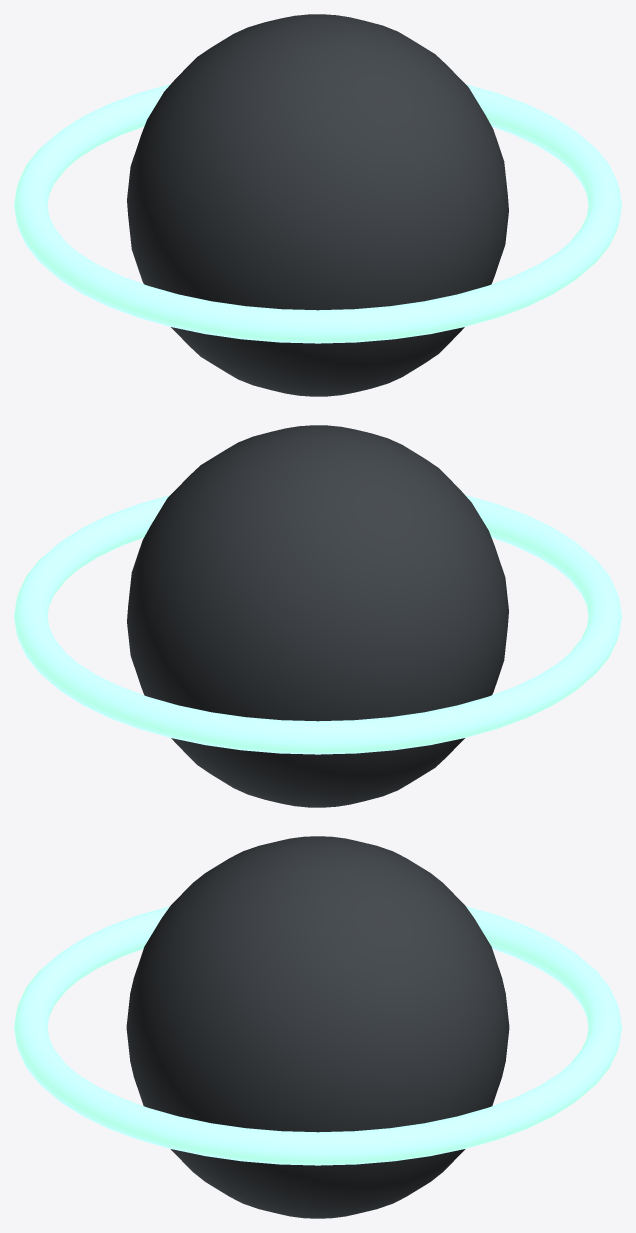
Rendered from sonar_friendly.glb.
The picture shows the model from 3 angles, top to bottom: view 1: azimuth 30°, elevation 25°; view 2: azimuth 150°, elevation 25°; view 3: azimuth 270°, elevation 25°; orthographic projection.
Parts seen in each view (by area): view 1: friendly core, friendly ring; view 2: friendly core, friendly ring; view 3: friendly core, friendly ring.
Part boxes in pixels (x1,y1,x2,y2): friendly core: [127, 14, 508, 396]; friendly ring: [14, 84, 621, 343]; friendly core: [127, 425, 508, 807]; friendly ring: [14, 495, 621, 754]; friendly core: [126, 836, 509, 1218]; friendly ring: [14, 906, 621, 1165].
Size of the model in its own units: 0.508 by 0.32 by 0.508.
